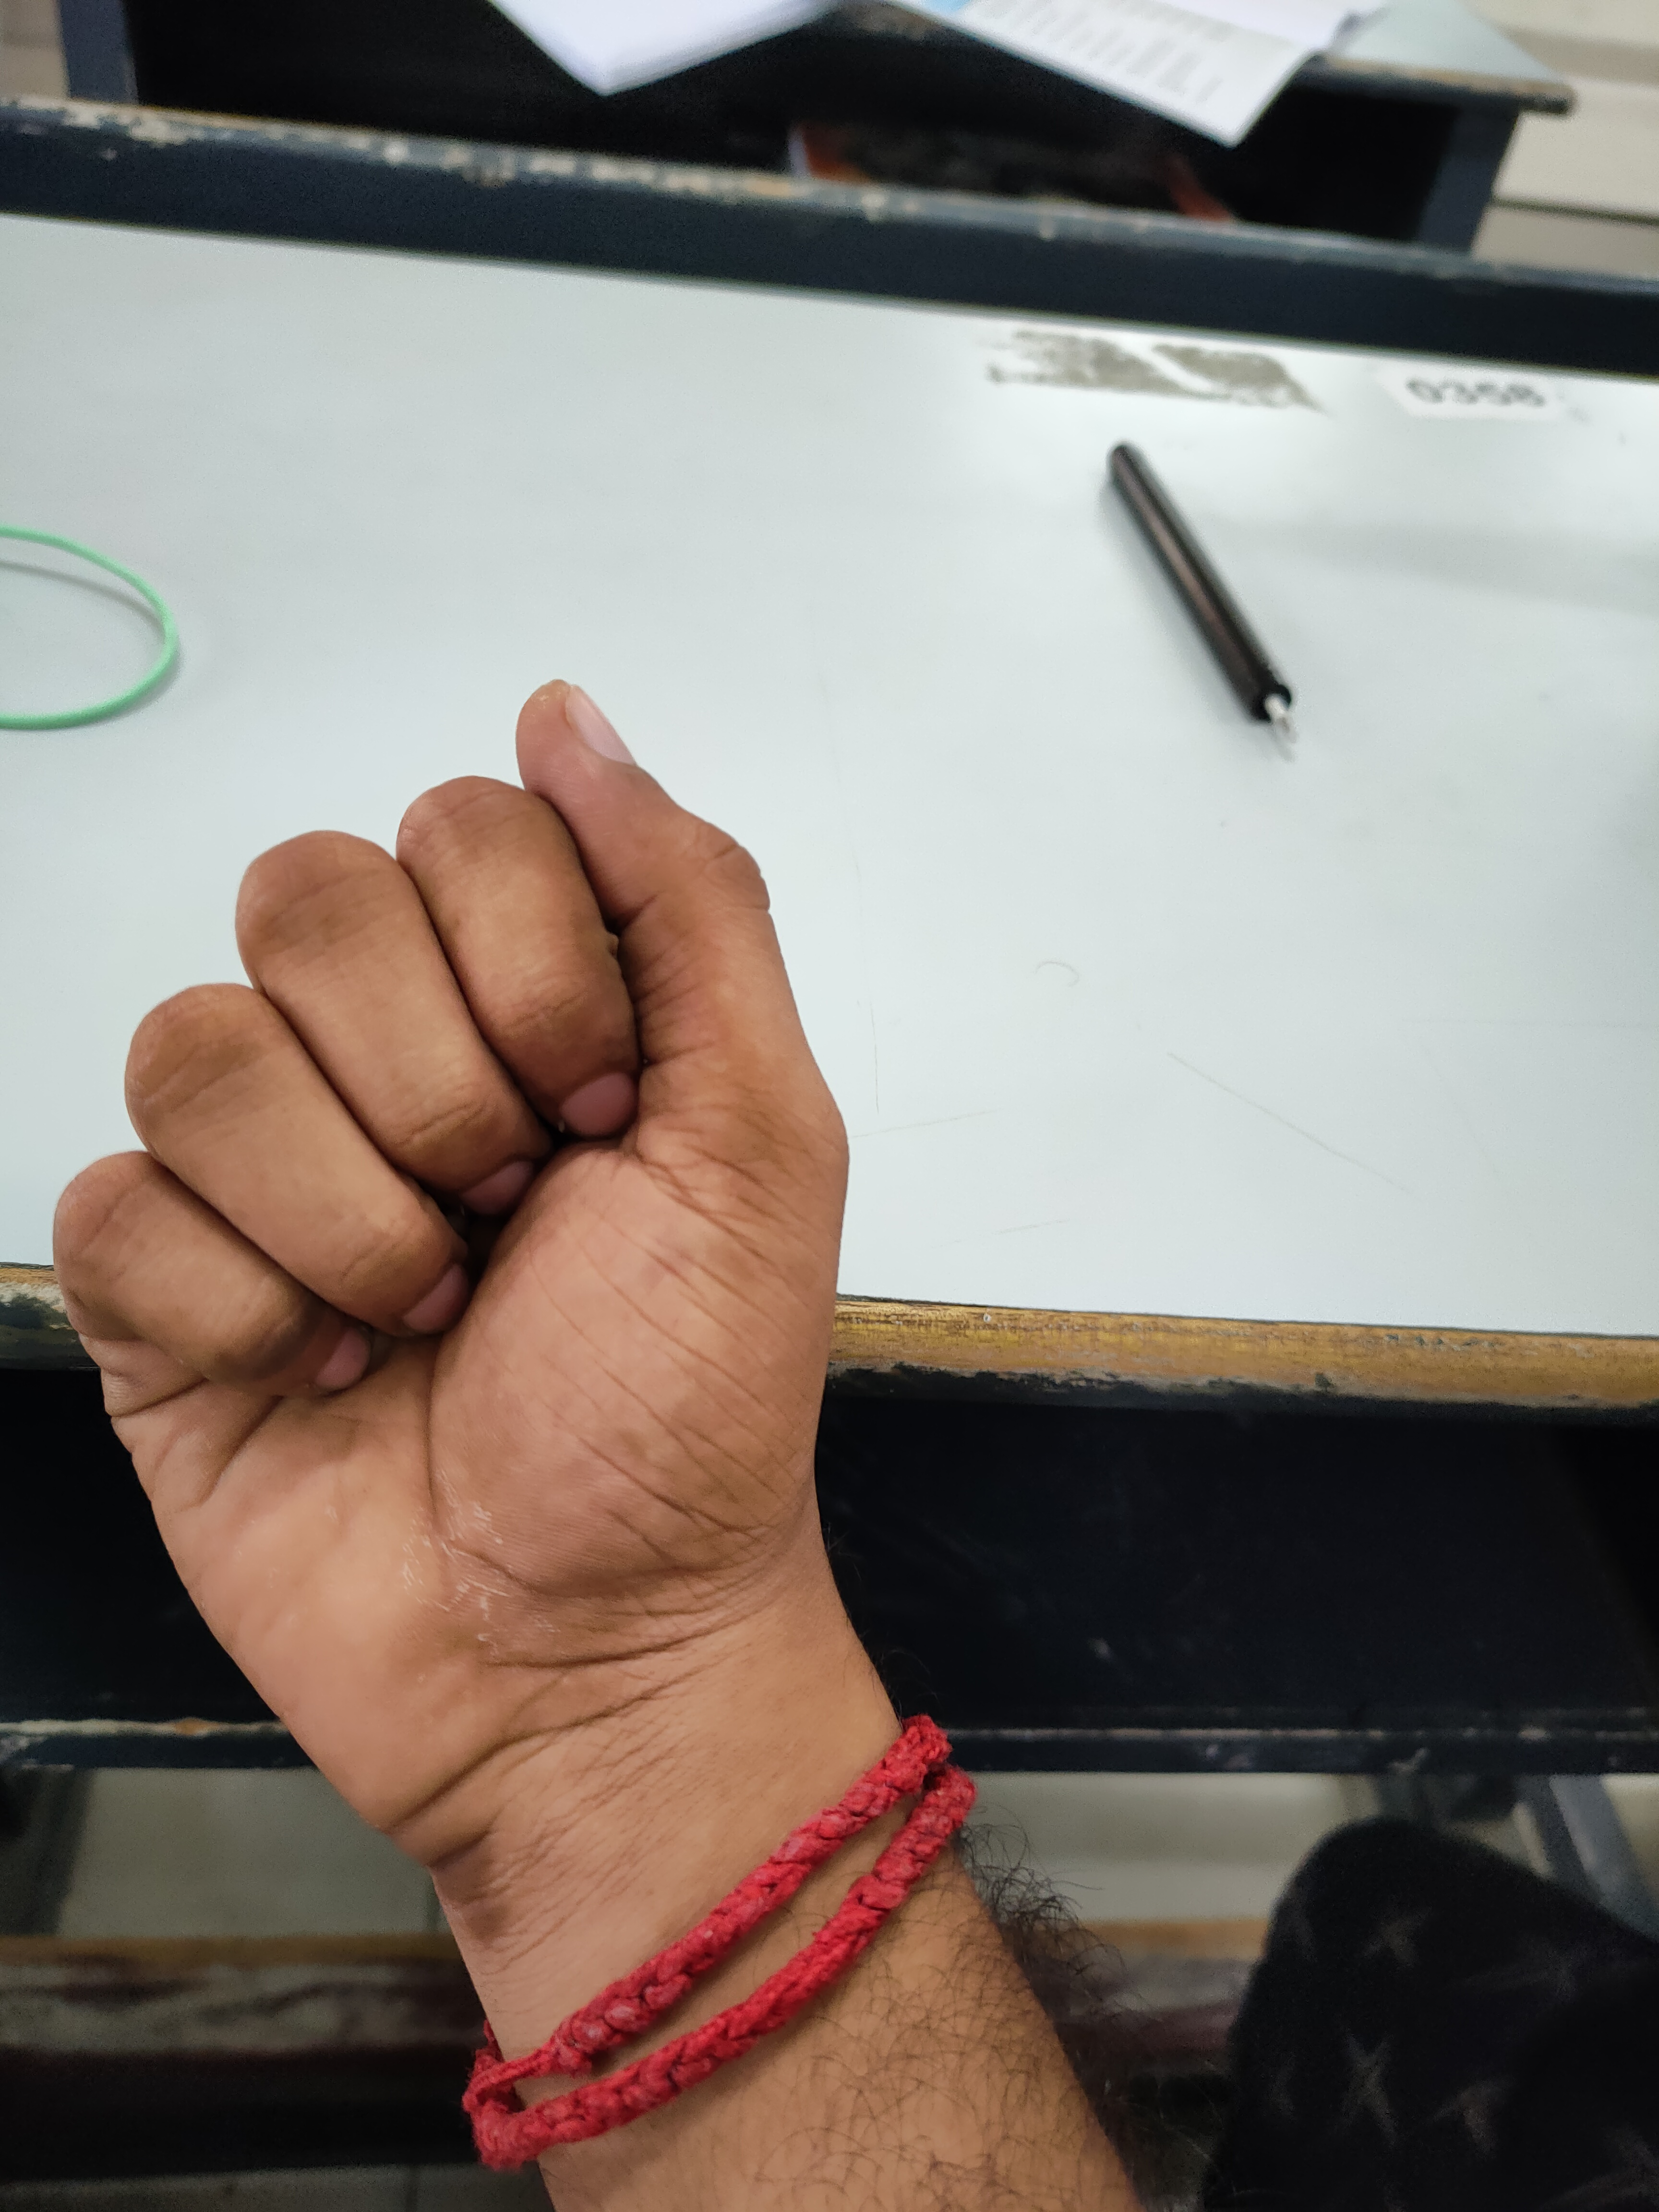A: (44, 662, 1023, 1876)
